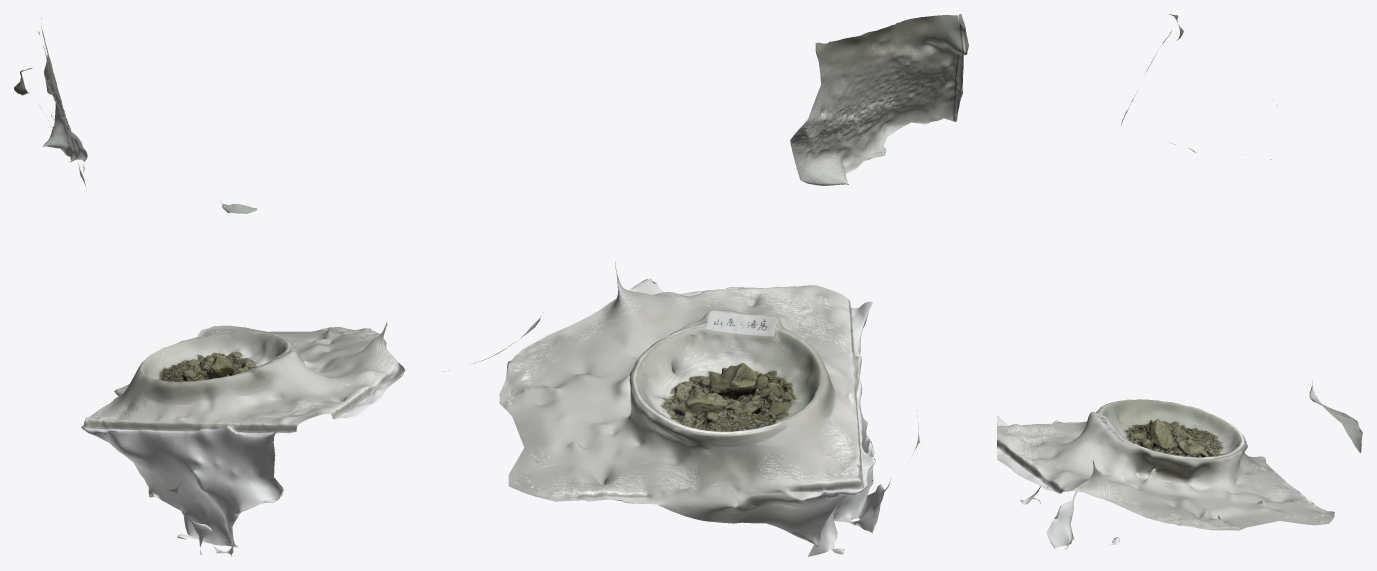
The picture shows the model from 3 angles, left to right: view 1: azimuth 30°, elevation 25°; view 2: azimuth 150°, elevation 25°; view 3: azimuth 270°, elevation 25°; orthographic projection. The views are drawn at different scales.
Bounding box in the file's own units: 1.59 × 2.02 × 1.43.
Materials: 1 (1 with a texture image).
